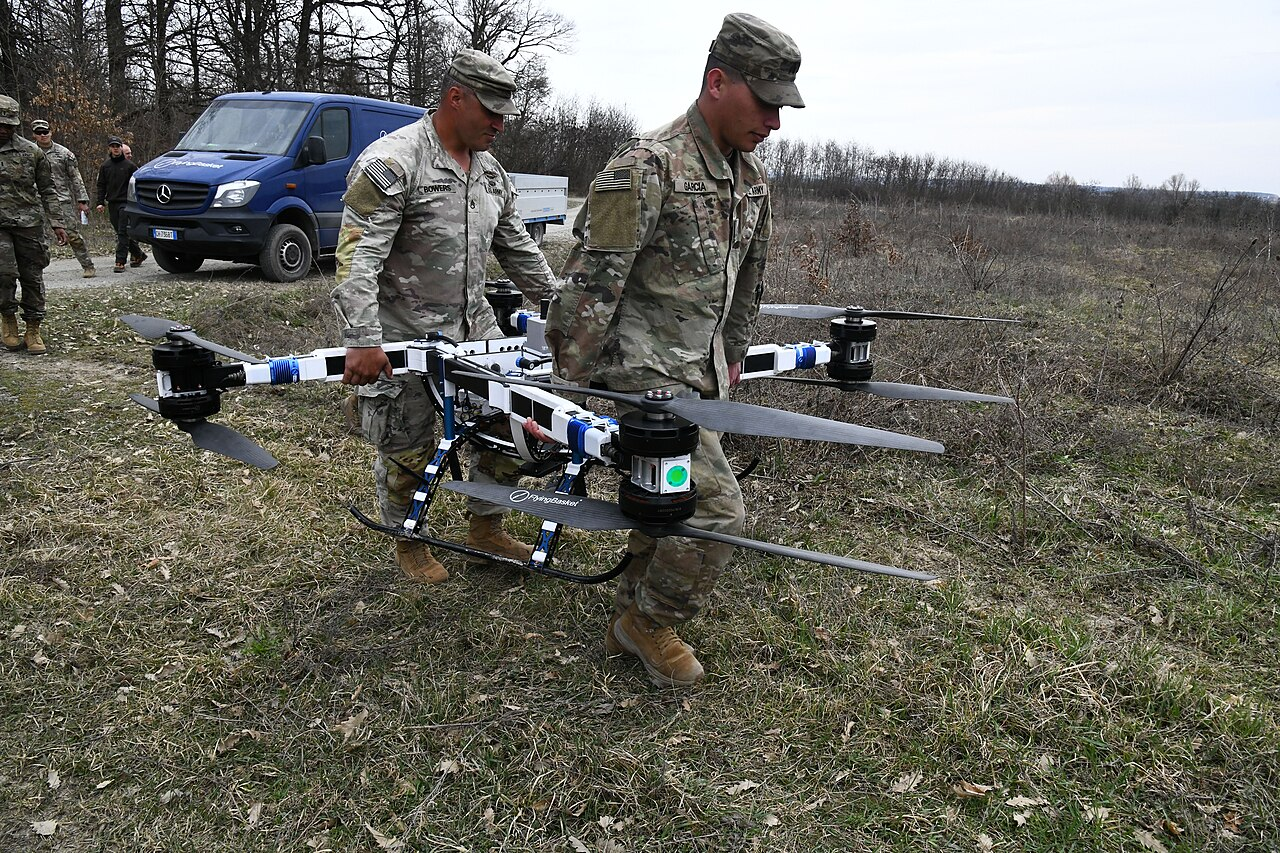drone: (114, 275, 1028, 578)
